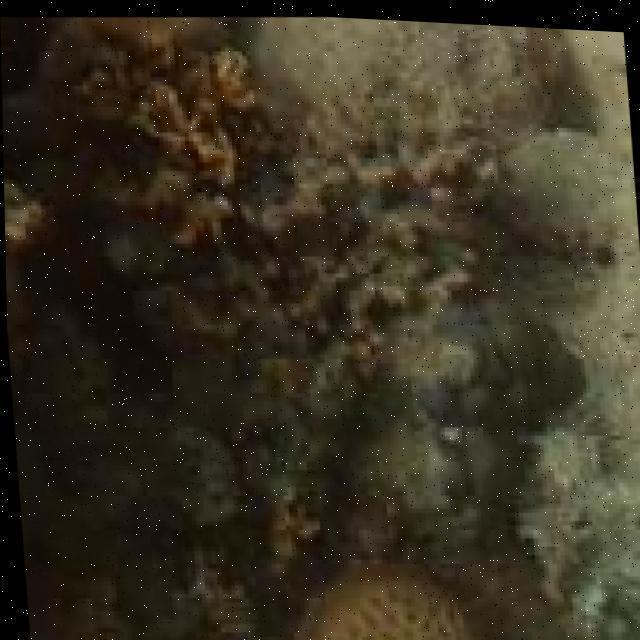Healthy Coral: (302, 560, 474, 640)
